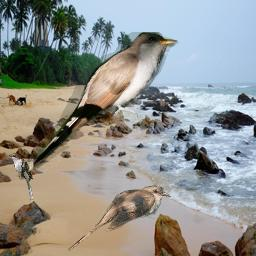Cuckoo: (27, 32, 179, 172), (68, 185, 171, 251), (7, 153, 33, 201)
